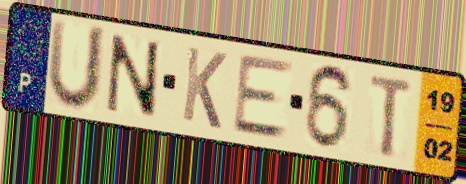6: (305, 62, 359, 153)
E: (230, 53, 296, 142)
K: (179, 43, 230, 133)
N: (105, 31, 161, 122)
T: (367, 71, 416, 160)
U: (44, 16, 110, 115)
